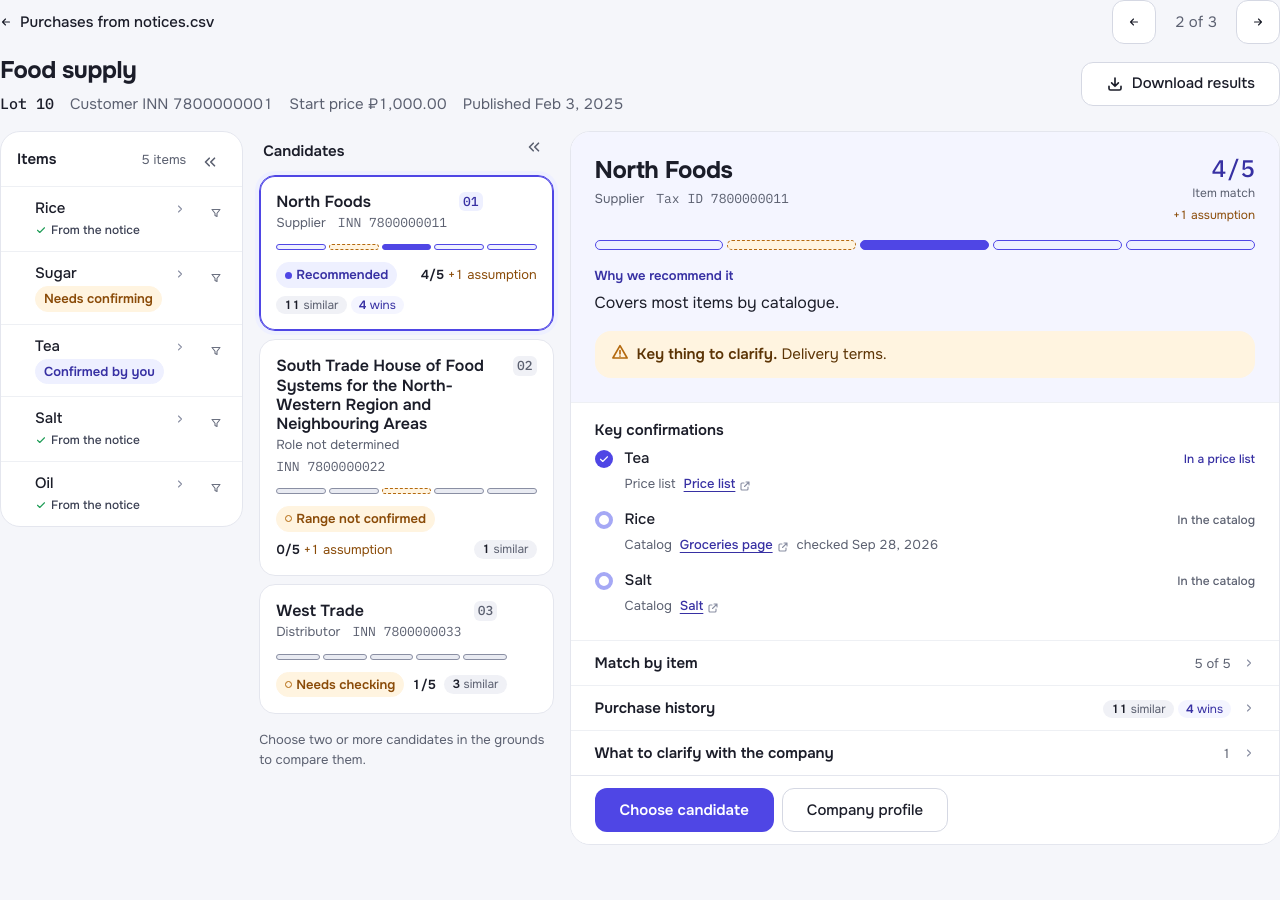
Scenario: choosing, comparing and the profile › compares chosen candidates side by side
Expected: the heading "Food supply" is shown, [0,55,136,85]
Click the button "Choose candidate": {"x": 684, "y": 810} [595,788,774,832]
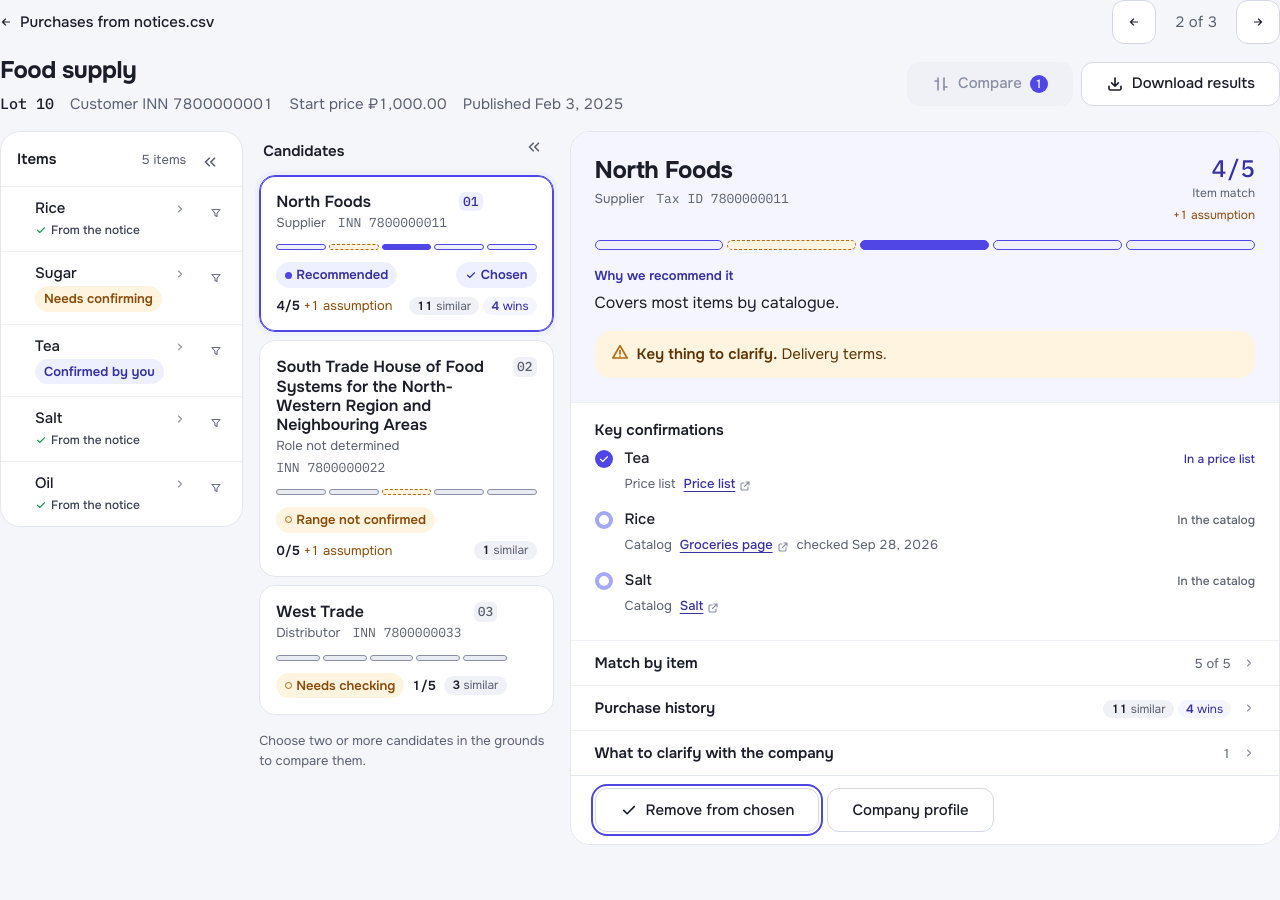
Expected: the button "Remove from chosen" is shown, [595,788,819,832]
Click the button "West Trade": {"x": 320, "y": 612} [259,585,554,715]
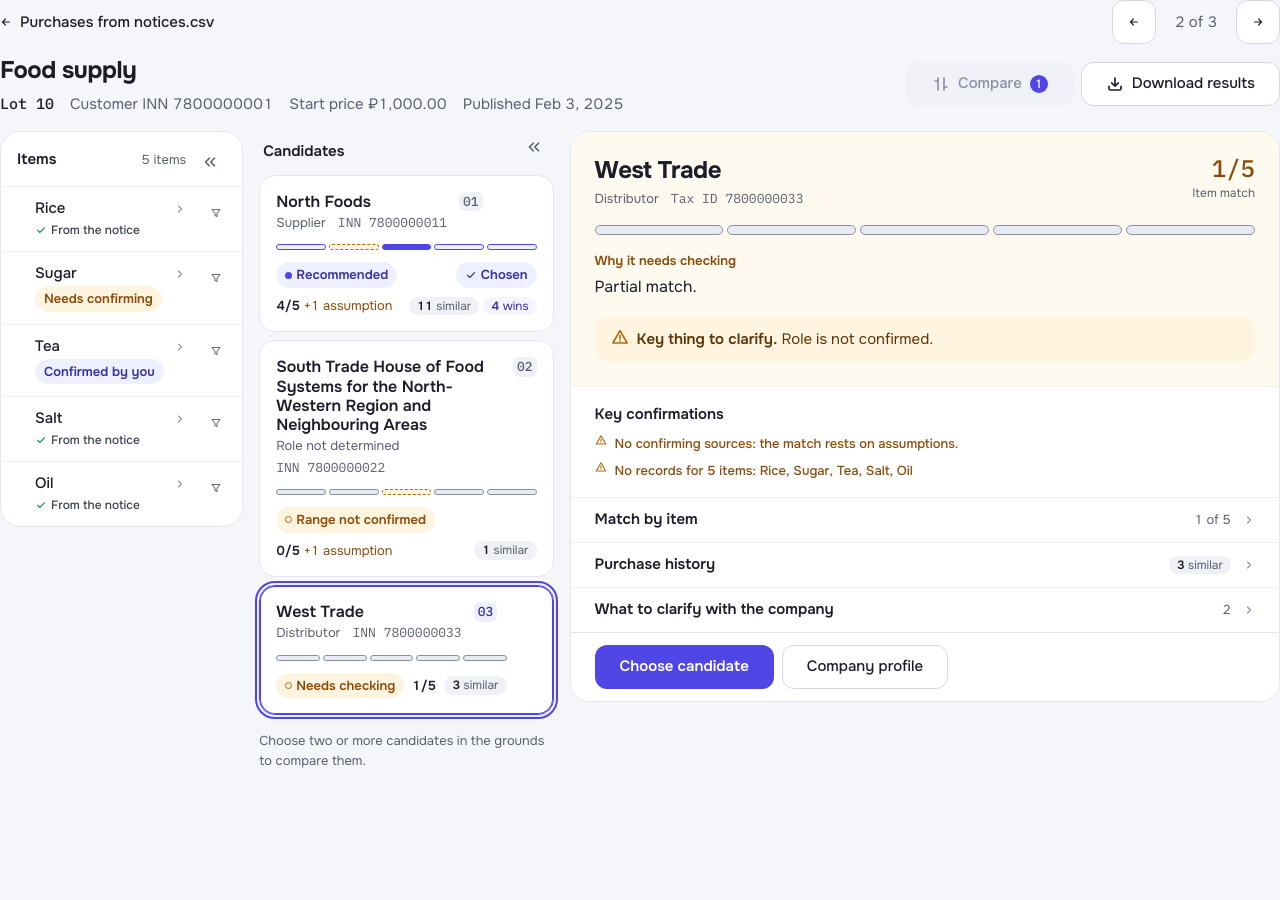
Click the button "Choose candidate": {"x": 684, "y": 667} [595,645,774,689]
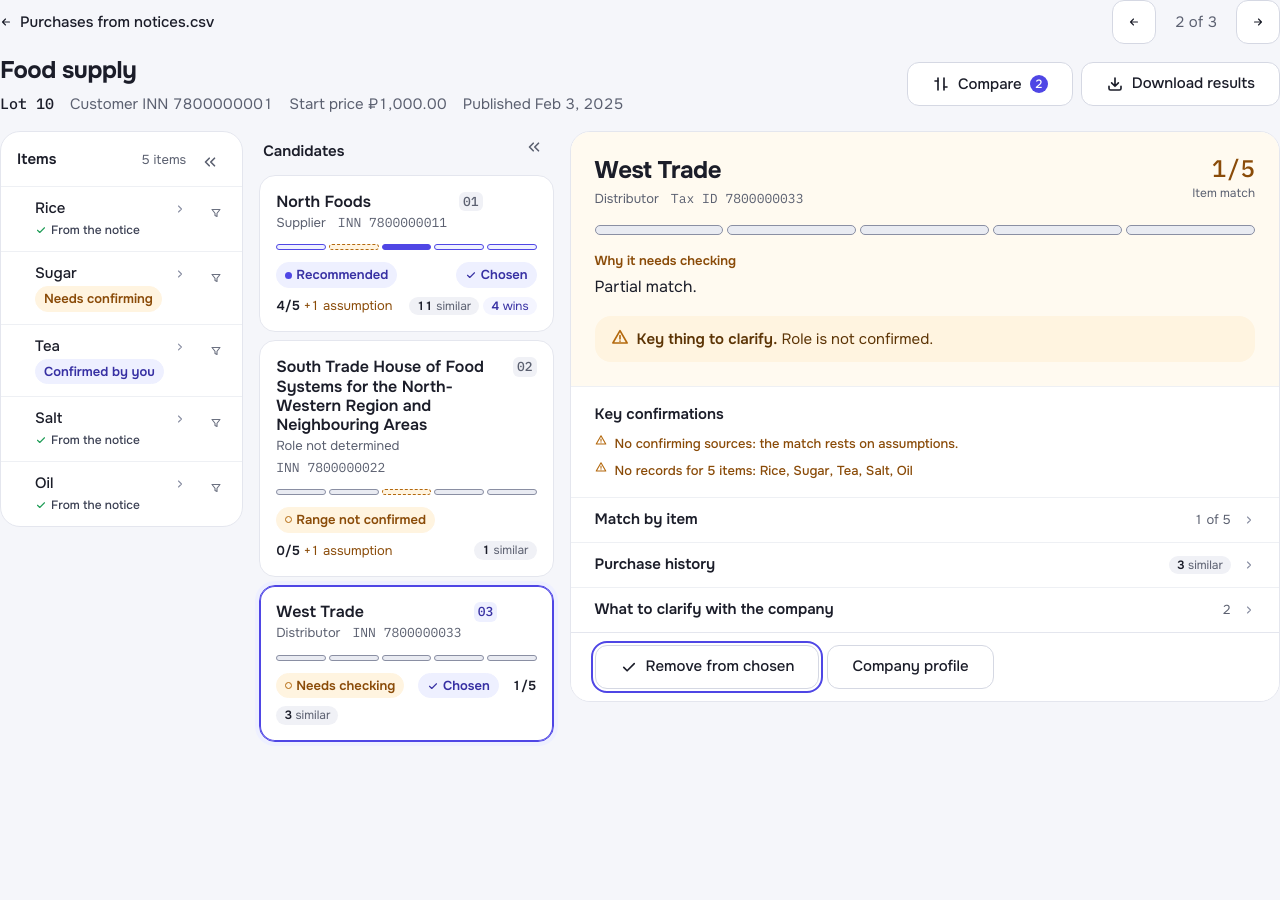
Expected: the text "Choose two or more candidates in the grounds to compare them." is gone
Click the button with aria-label "Compare chosen: 2": {"x": 990, "y": 84} [907,62,1073,106]
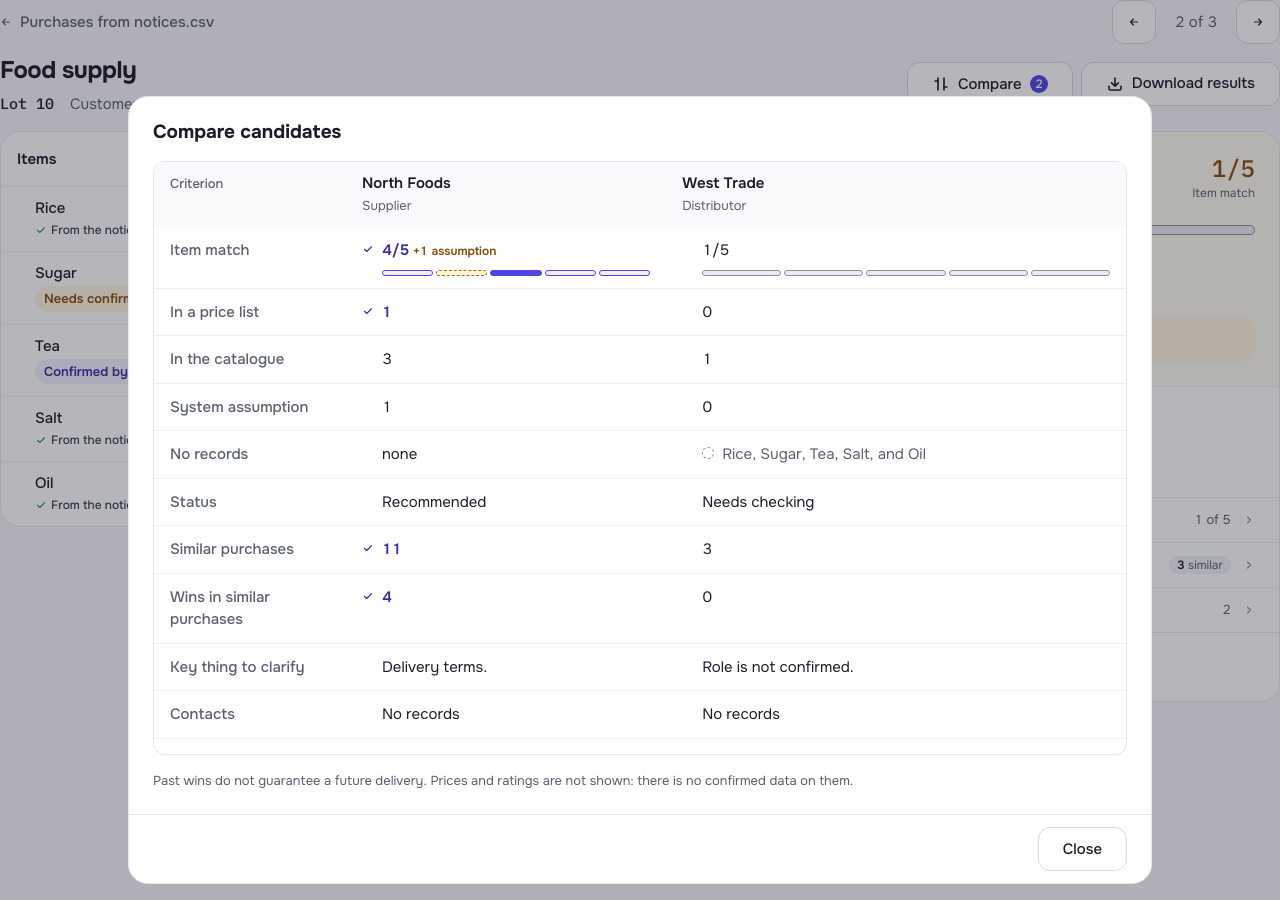
Expected: the column headings read "Criterion", "North FoodsSupplier", "West TradeDistributor", in this order, [154,162,346,227]; [346,162,666,227]; [666,162,1126,227]
Expected: the text "4/5" is shown, [382,240,410,260]
Expected: the row "No records" shows "Rice, Sugar, Tea, Salt, and Oil", [722,444,926,464]
Click the button "Close": {"x": 1082, "y": 849} [1038,827,1127,871]
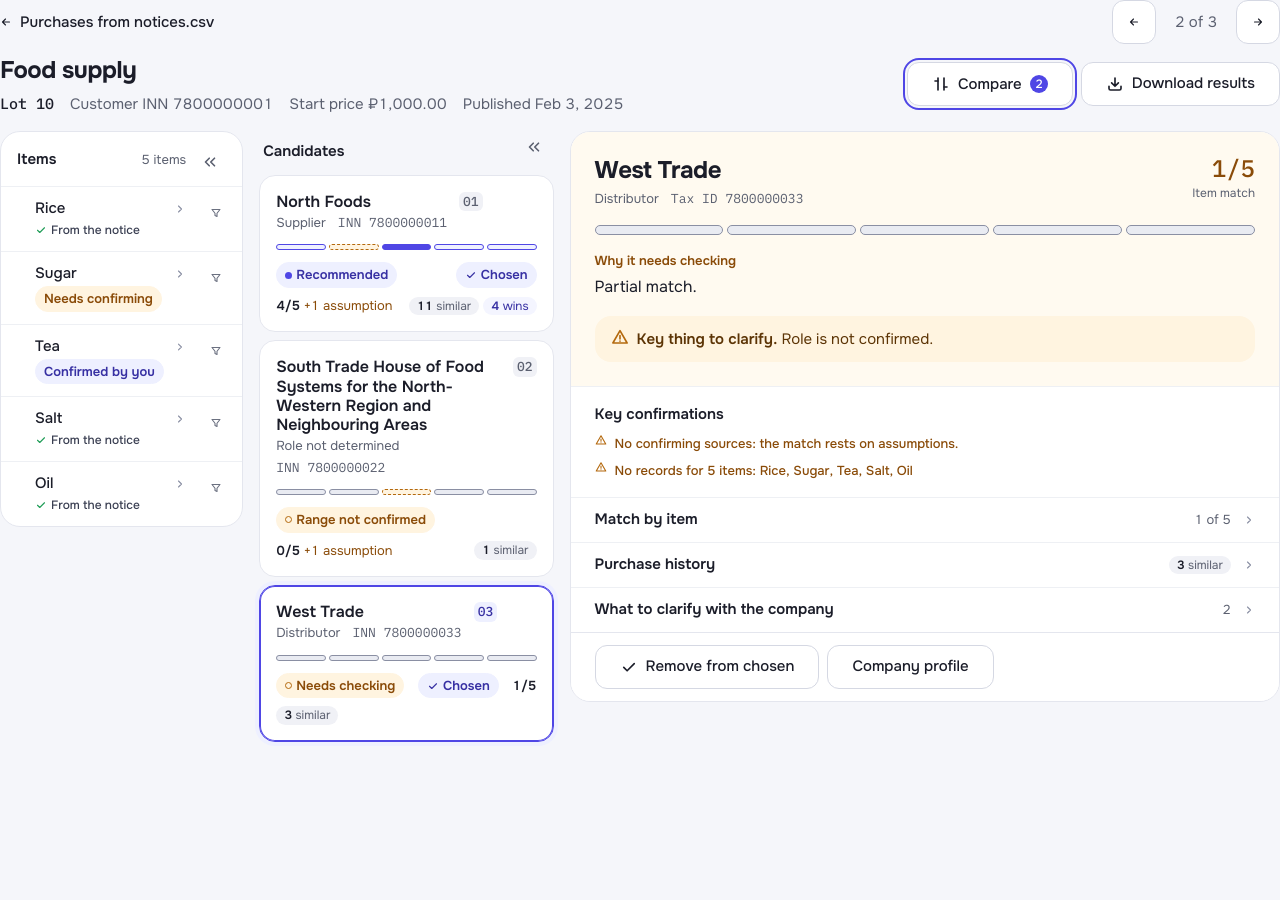
Expected: the text "Chosen" is shown 2 times, [456,262,537,288]; [418,673,499,698]
Expected: the dialog is gone
